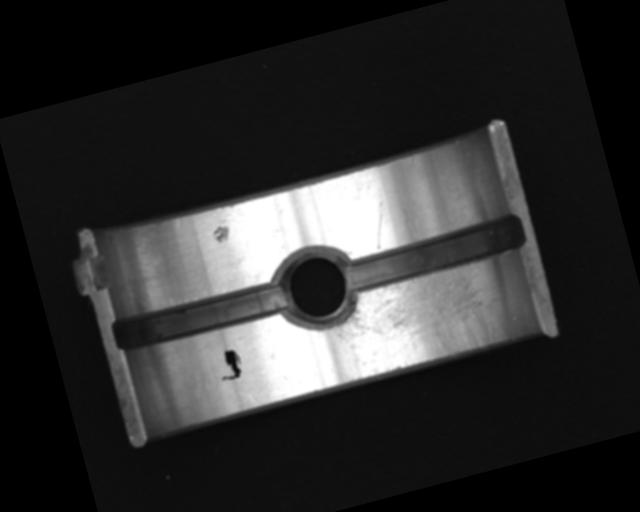blot: (214, 346, 245, 383)
bruise: (210, 223, 232, 245)
gap: (339, 210, 528, 297), (111, 276, 291, 356)
hole: (270, 240, 362, 338)
nick: (365, 202, 394, 251)
scratch: (325, 258, 516, 384)
